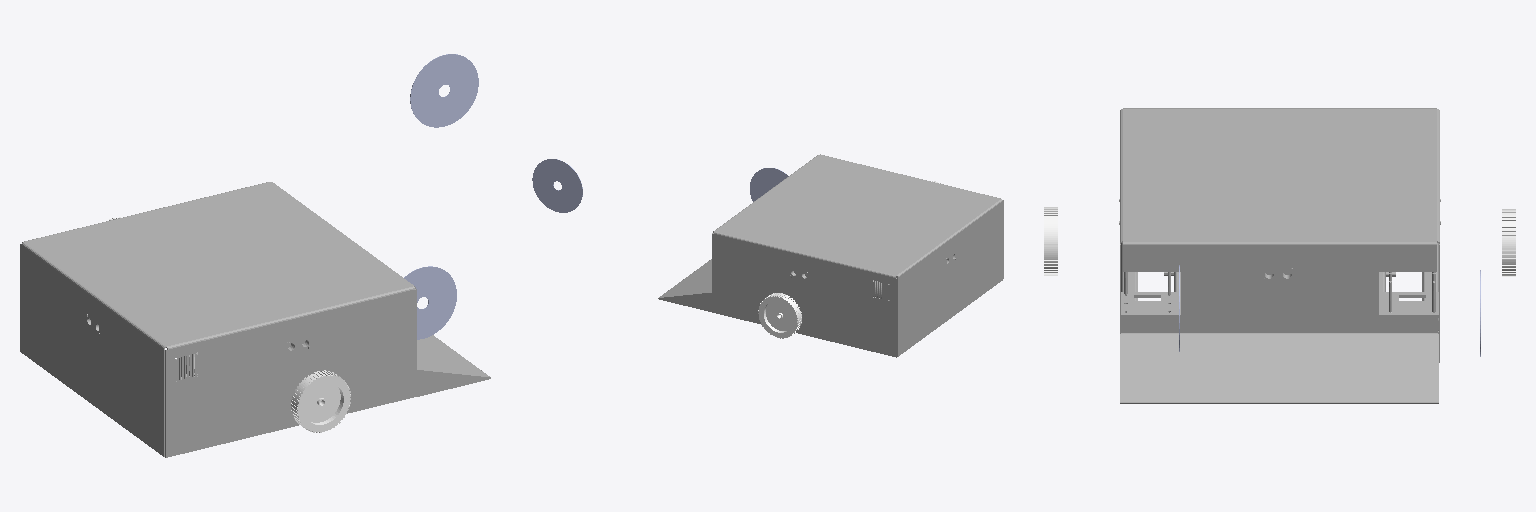
URDF robot description (r3_2020):
<?xml version="1.0" encoding="utf-8"?>
<!-- This URDF was automatically created by SolidWorks to URDF Exporter! Originally created by [author] ([email redacted]) 
     Commit Version: 1.6.0-1-g15f4949  Build Version: 1.6.7594.29634
     For more information, please see http://wiki.ros.org/sw_urdf_exporter -->
<robot
  name="r3_2020">
  <link
    name="base_link">
    <inertial>
      <origin
        xyz="0.081493 7.5493E-05 0.11049"
        rpy="0 0 0" />
      <mass
        value="12.193" />
      <inertia
        ixx="0.13348"
        ixy="-4.7884E-05"
        ixz="-0.0051656"
        iyy="0.13115"
        iyz="4.4011E-07"
        izz="0.2352" />
    </inertial>
    <visual>
      <origin
        xyz="0 0 0"
        rpy="0 0 0" />
      <geometry>
        <mesh
          filename="package://r3_2020/meshes/base_link.STL" />
      </geometry>
      <material
        name="">
        <color
          rgba="0.75294 0.75294 0.75294 1" />
      </material>
    </visual>
    <collision>
      <origin
        xyz="0 0 0"
        rpy="0 0 0" />
      <geometry>
        <mesh
          filename="package://r3_2020/meshes/base_link.STL" />
      </geometry>
    </collision>
  </link>
  <link
    name="wheel_left_link">
    <inertial>
      <origin
        xyz="-4.3368E-19 -0.006843 -4.8572E-17"
        rpy="0 0 0" />
      <mass
        value="0.1194" />
      <inertia
        ixx="9.3714E-05"
        ixy="5.7968E-22"
        ixz="2.5883E-20"
        iyy="0.0001803"
        iyz="9.0667E-19"
        izz="9.3714E-05" />
    </inertial>
    <visual>
      <origin
        xyz="0 0 0"
        rpy="0 0 0" />
      <geometry>
        <mesh
          filename="package://r3_2020/meshes/wheel_left_link.STL" />
      </geometry>
      <material
        name="">
        <color
          rgba="1 1 1 1" />
      </material>
    </visual>
    <collision>
      <origin
        xyz="0 0 0"
        rpy="0 0 0" />
      <geometry>
        <mesh
          filename="package://r3_2020/meshes/wheel_left_link.STL" />
      </geometry>
    </collision>
  </link>
  <joint
    name="wheel_left_link"
    type="continuous">
    <origin
      xyz="0.0014732 0.17376 0.051477"
      rpy="0 0 0" />
    <parent
      link="base_link" />
    <child
      link="wheel_left_link" />
    <axis
      xyz="0 -1 0" />
  </joint>
  <link
    name="wheel_right_link">
    <inertial>
      <origin
        xyz="3.4694E-18 0.006843 3.4694E-17"
        rpy="0 0 0" />
      <mass
        value="0.1194" />
      <inertia
        ixx="9.3714E-05"
        ixy="-3.0247E-23"
        ixz="-1.7186E-20"
        iyy="0.0001803"
        iyz="3.0191E-19"
        izz="9.3714E-05" />
    </inertial>
    <visual>
      <origin
        xyz="0 0 0"
        rpy="0 0 0" />
      <geometry>
        <mesh
          filename="package://r3_2020/meshes/wheel_right_link.STL" />
      </geometry>
      <material
        name="">
        <color
          rgba="1 1 1 1" />
      </material>
    </visual>
    <collision>
      <origin
        xyz="0 0 0"
        rpy="0 0 0" />
      <geometry>
        <mesh
          filename="package://r3_2020/meshes/wheel_right_link.STL" />
      </geometry>
    </collision>
  </link>
  <joint
    name="wheel_right_joint"
    type="continuous">
    <origin
      xyz="-0.0014732 -0.17376 0.051477"
      rpy="0 0 0" />
    <parent
      link="base_link" />
    <child
      link="wheel_right_link" />
    <axis
      xyz="0 1 0" />
  </joint>
  <link
    name="blade_right_link">
    <inertial>
      <origin
        xyz="0 2.7756E-17 1.3878E-17"
        rpy="0 0 0" />
      <mass
        value="0.012885" />
      <inertia
        ixx="1.4009E-05"
        ixy="-1.5168E-20"
        ixz="-1.9721E-22"
        iyy="2.8016E-05"
        iyz="9.4703E-20"
        izz="1.4009E-05" />
    </inertial>
    <visual>
      <origin
        xyz="0 0 0"
        rpy="0 0 0" />
      <geometry>
        <mesh
          filename="package://r3_2020/meshes/blade_right_link.STL" />
      </geometry>
      <material
        name="">
        <color
          rgba="0.79216 0.81961 0.93333 1" />
      </material>
    </visual>
    <collision>
      <origin
        xyz="0 0 0"
        rpy="0 0 0" />
      <geometry>
        <mesh
          filename="package://r3_2020/meshes/blade_right_link.STL" />
      </geometry>
    </collision>
  </link>
  <joint
    name="blade_right_joint"
    type="continuous">
    <origin
      xyz="0.3015 -0.1503 0.13348"
      rpy="0 0 0" />
    <parent
      link="base_link" />
    <child
      link="blade_right_link" />
    <axis
      xyz="0 -1 0" />
  </joint>
  <link
    name="blade_left_link">
    <inertial>
      <origin
        xyz="0 0 0"
        rpy="0 0 0" />
      <mass
        value="0.012885" />
      <inertia
        ixx="1.4009E-05"
        ixy="1.3204E-20"
        ixz="5.0201E-22"
        iyy="2.8016E-05"
        iyz="8.3033E-26"
        izz="1.4009E-05" />
    </inertial>
    <visual>
      <origin
        xyz="0 0 0"
        rpy="0 0 0" />
      <geometry>
        <mesh
          filename="package://r3_2020/meshes/blade_left_link.STL" />
      </geometry>
      <material
        name="">
        <color
          rgba="0.79216 0.81961 0.93333 1" />
      </material>
    </visual>
    <collision>
      <origin
        xyz="0 0 0"
        rpy="0 0 0" />
      <geometry>
        <mesh
          filename="package://r3_2020/meshes/blade_left_link.STL" />
      </geometry>
    </collision>
  </link>
  <joint
    name="blade_left_joint"
    type="continuous">
    <origin
      xyz="0.3015 0.1503 0.13348"
      rpy="0 0 0" />
    <parent
      link="base_link" />
    <child
      link="blade_left_link" />
    <axis
      xyz="0 -1 0" />
  </joint>
</robot>

--- Facts derived from the render (not from the file) ---
3 views of the same robot in one strip: view 1: azimuth 30°, elevation 25°; view 2: azimuth 150°, elevation 25°; view 3: azimuth 270°, elevation 25° (orthographic).
Model r3_2020 with 5 links and 4 joints (4 continuous), rooted at base_link, posed every joint at zero.
Visible links, largest first — view 1: base_link, blade_left_link, wheel_right_link, blade_right_link; view 2: base_link, blade_left_link, wheel_left_link, blade_right_link; view 3: base_link, wheel_right_link, wheel_left_link.
Boxes of the visible links, <box> form: base_link: <box>20,182,490,457</box>; blade_left_link: <box>410,54,478,127</box>; wheel_right_link: <box>291,370,350,432</box>; blade_right_link: <box>404,266,456,339</box>; base_link: <box>658,154,1003,357</box>; blade_left_link: <box>532,159,582,212</box>; wheel_left_link: <box>758,293,801,338</box>; blade_right_link: <box>750,168,788,201</box>; base_link: <box>1119,108,1440,403</box>; wheel_right_link: <box>1044,207,1057,275</box>; wheel_left_link: <box>1502,209,1515,276</box>.
Bounding box of the posed robot: 0.9091 × 0.705 × 0.332 m (x, y, z).
Meshes: 5 distinct files referenced, 5 mesh visuals loaded (5 binary STL).
